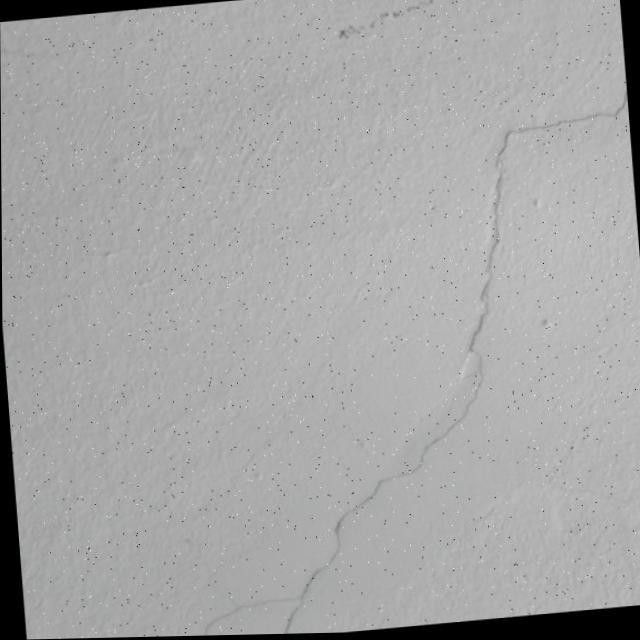Crack: (123, 80, 640, 638)
